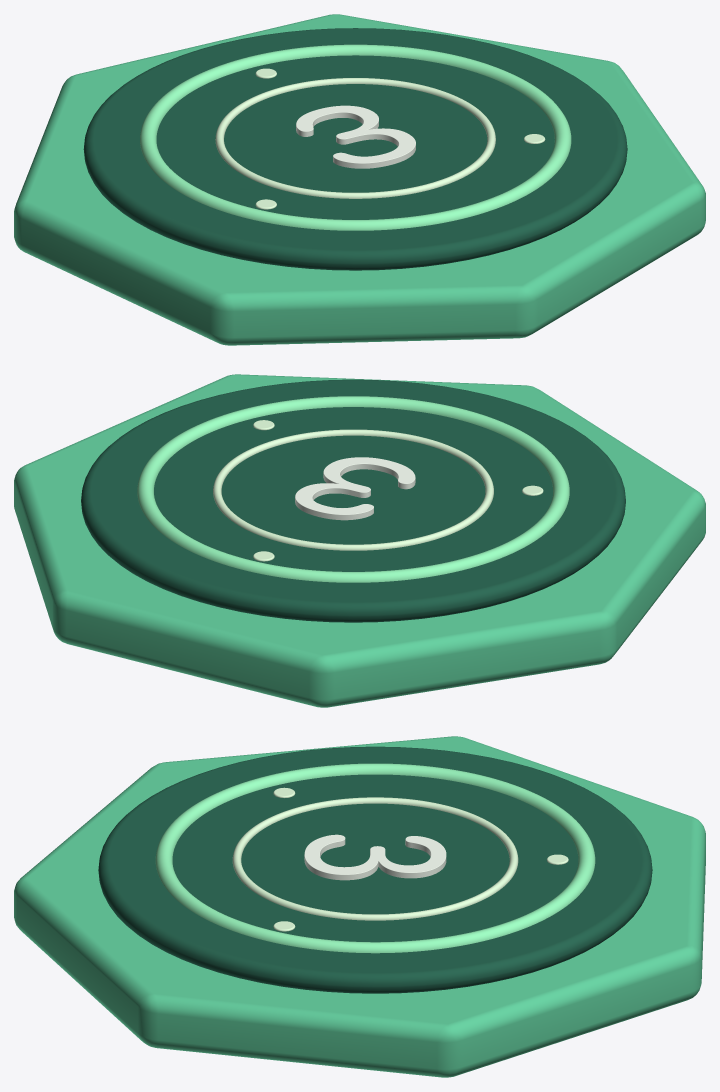
File: achievement_streak_3.glb
The picture shows the model from 3 angles, top to bottom: view 1: azimuth 30°, elevation 25°; view 2: azimuth 150°, elevation 25°; view 3: azimuth 270°, elevation 25°; orthographic projection.
Parts seen in each view (by area): view 1: streak rounded inner face, streak wave frame, streak orbit ring, streak inner ring, imprinted 3 workout count; view 2: streak rounded inner face, streak wave frame, streak orbit ring, streak inner ring, imprinted 3 workout count; view 3: streak rounded inner face, streak wave frame, streak orbit ring, streak inner ring, imprinted 3 workout count.
Boxes of the visible parts, box(x1,y1,x2,y2) form: streak rounded inner face: box(83, 28, 627, 270); streak wave frame: box(14, 14, 705, 345); streak orbit ring: box(140, 44, 571, 230); streak inner ring: box(215, 78, 495, 198); imprinted 3 workout count: box(296, 105, 415, 168); streak rounded inner face: box(81, 379, 625, 622); streak wave frame: box(14, 374, 705, 707); streak orbit ring: box(137, 396, 569, 582); streak inner ring: box(213, 429, 493, 550); imprinted 3 workout count: box(295, 457, 415, 520); streak rounded inner face: box(98, 746, 652, 993); streak wave frame: box(14, 736, 705, 1077); streak orbit ring: box(155, 763, 595, 953); streak inner ring: box(232, 797, 518, 920); imprinted 3 workout count: box(304, 834, 446, 880).
Bounding box in the file's own units: 1.94 × 0.24 × 1.9.
